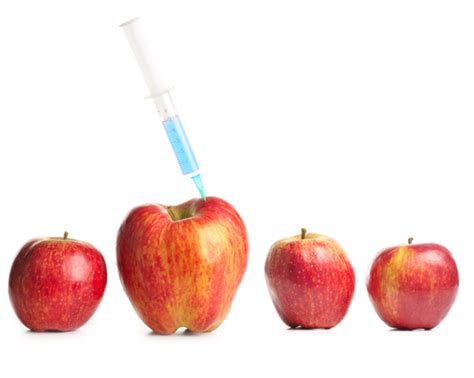apple: (114, 193, 250, 338), (6, 232, 108, 335), (262, 231, 360, 333), (366, 235, 460, 333)
